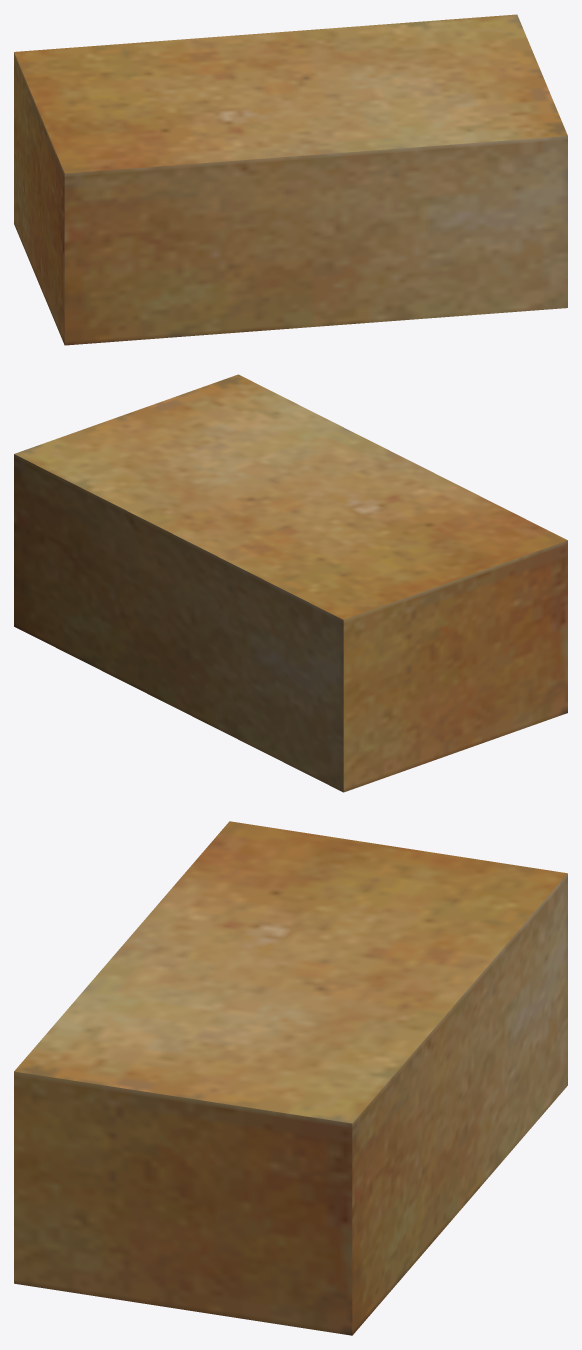
3 renders of one model, top to bottom at view 1: azimuth 30°, elevation 25°; view 2: azimuth 150°, elevation 25°; view 3: azimuth 270°, elevation 25°, orthographic. The views are drawn at different scales.
Visible parts, largest first — view 1: Joint_0_Object_0; view 2: Joint_0_Object_0; view 3: Joint_0_Object_0.
Part boxes in pixels (x1,y1,x2,y2): Joint_0_Object_0: [14, 14, 567, 345]; Joint_0_Object_0: [14, 374, 567, 792]; Joint_0_Object_0: [14, 821, 567, 1335].
Size of the model in its own units: 596 by 195 by 461.
Materials: 1 (1 with a texture image).
